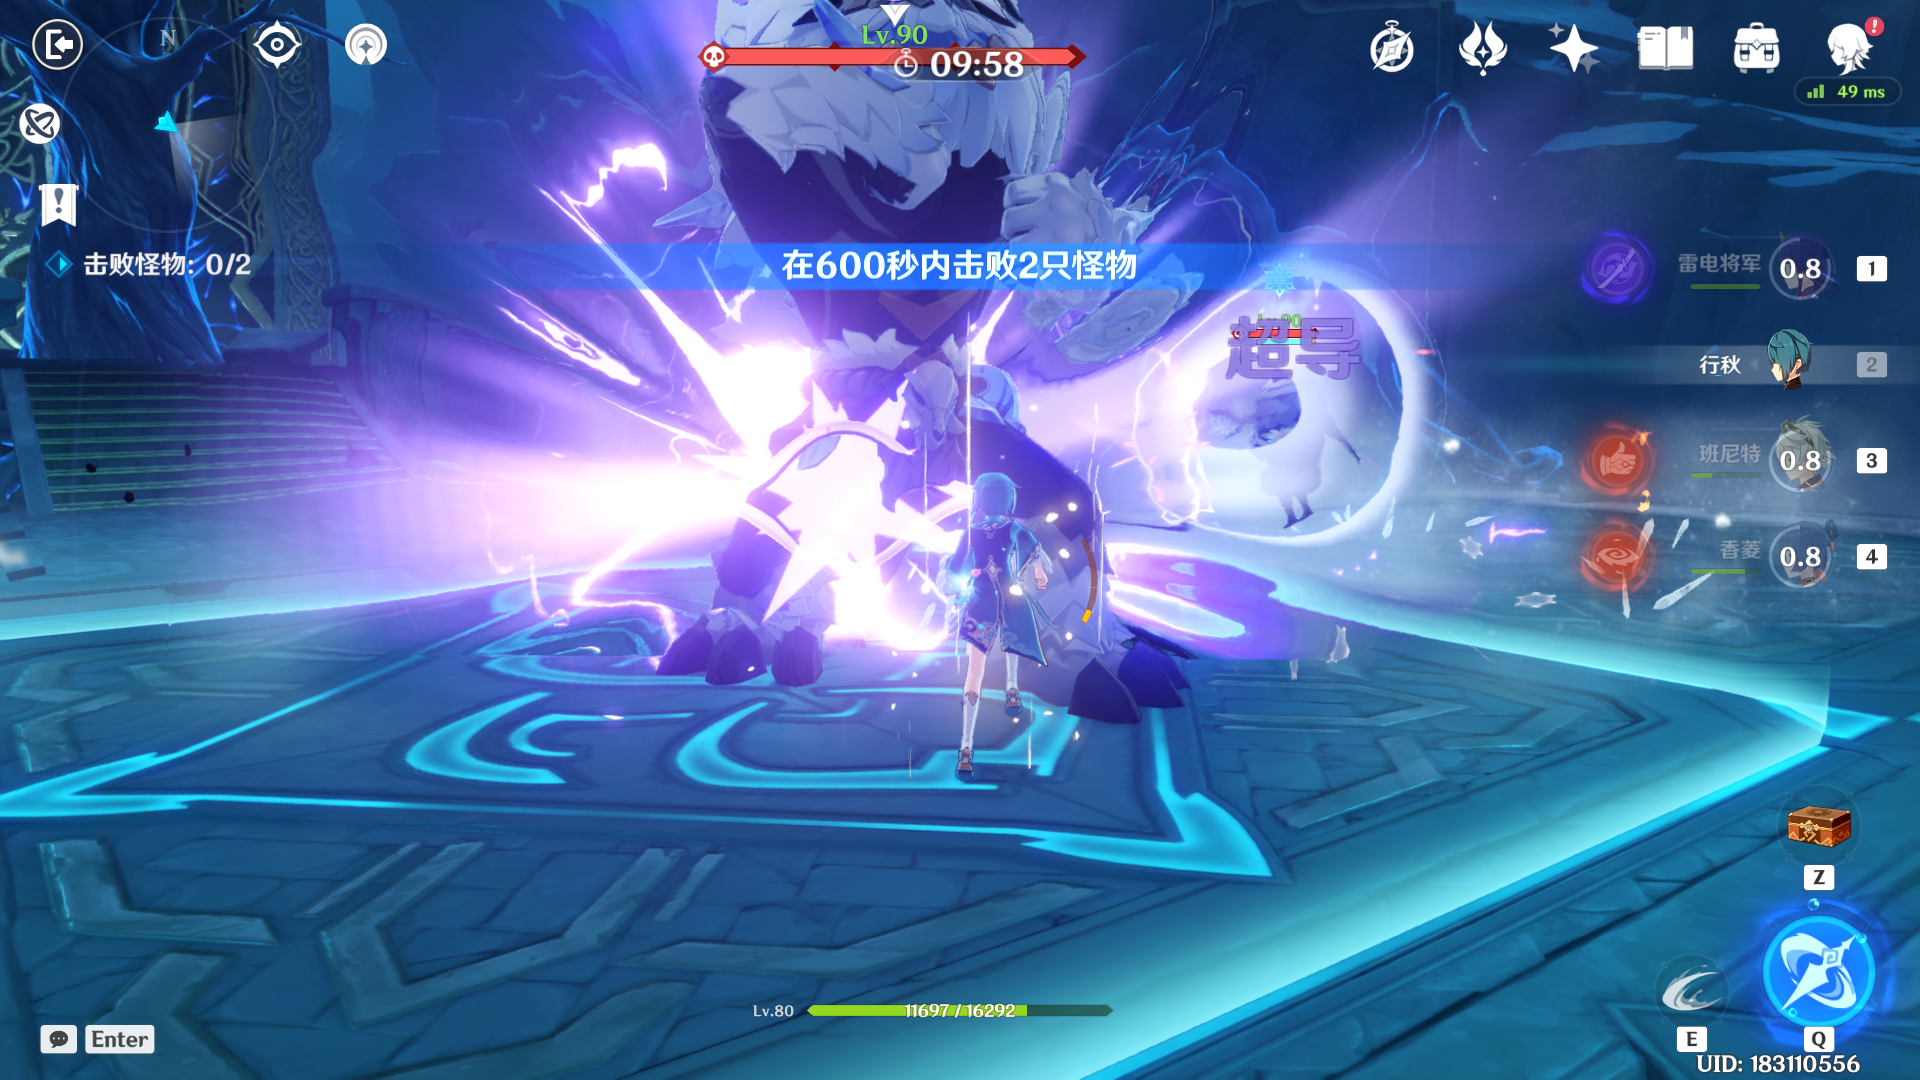bosshili: (575, 1, 1150, 814)
caster: (1184, 320, 1389, 546)
character: (909, 465, 1105, 789)
